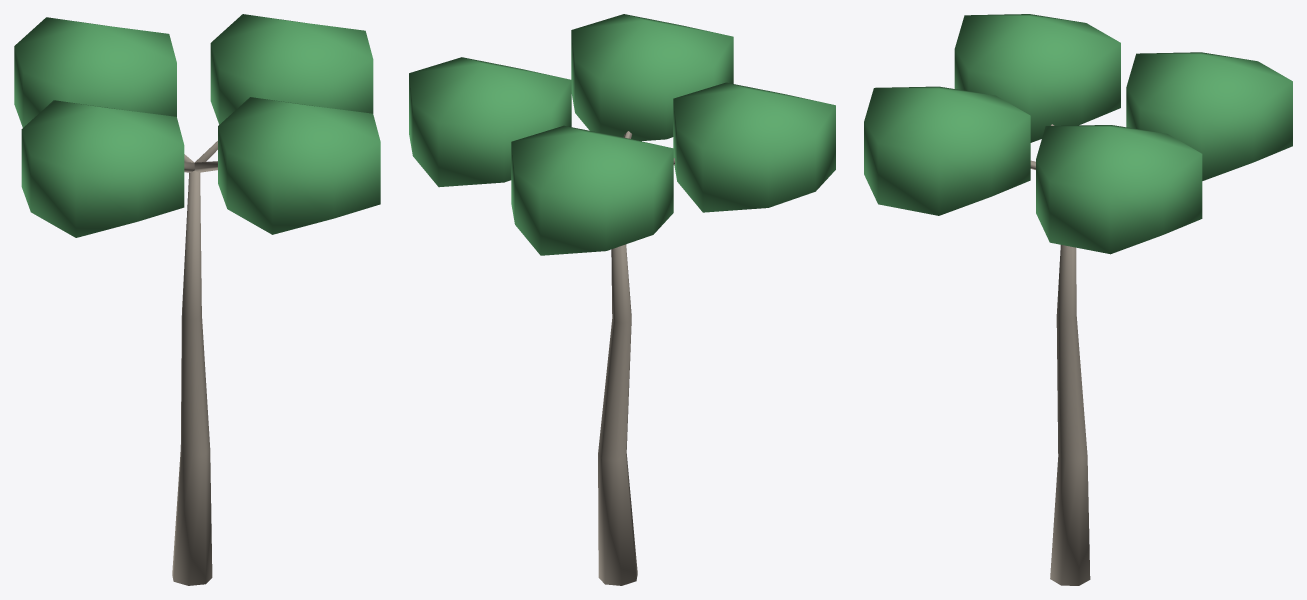
Rendered from tree_magnolia.glb.
3 renders of one model, left to right at view 1: azimuth 30°, elevation 25°; view 2: azimuth 150°, elevation 25°; view 3: azimuth 270°, elevation 25°, orthographic. The views are drawn at different scales.
Visible parts, largest first — view 1: Flora_Magnolia; view 2: Flora_Magnolia; view 3: Flora_Magnolia.
Boxes of the visible parts, x1,y1,x2,y2 form: Flora_Magnolia: (14,14,380,585); Flora_Magnolia: (409,14,835,585); Flora_Magnolia: (864,14,1292,585).
Bounding box in the file's own units: 6.25 × 8.16 × 6.25.
